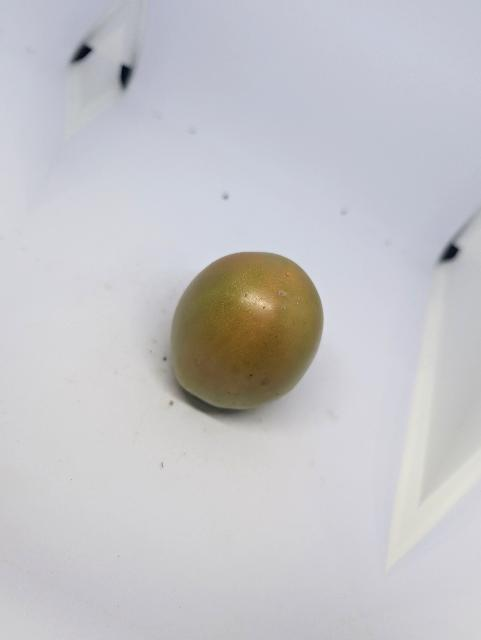breaker: (165, 248, 327, 416)
